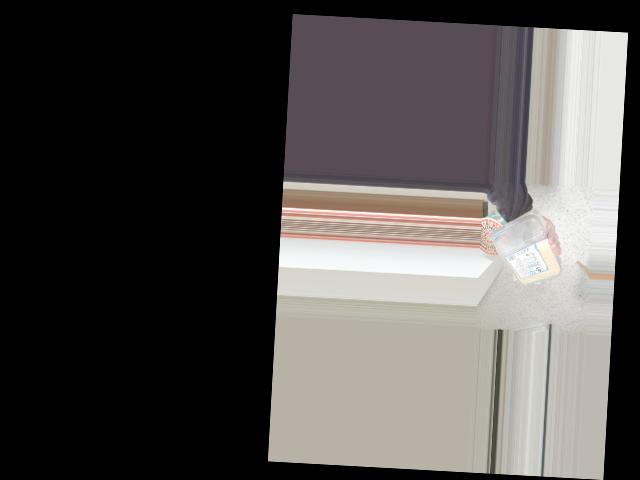cheese: (489, 216, 554, 288)
